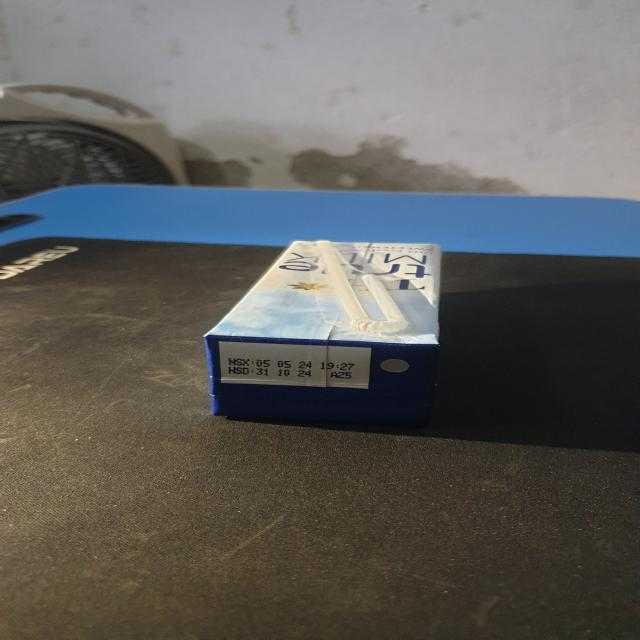TH: (206, 241, 448, 431)
